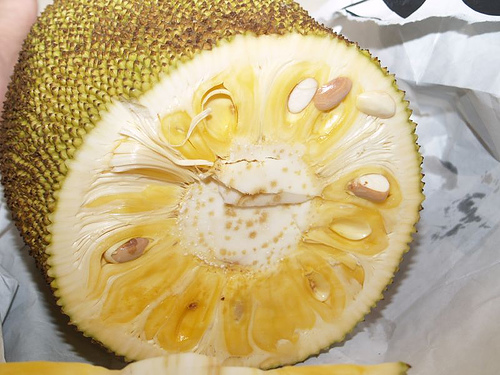jackfruit: (0, 0, 424, 370)
